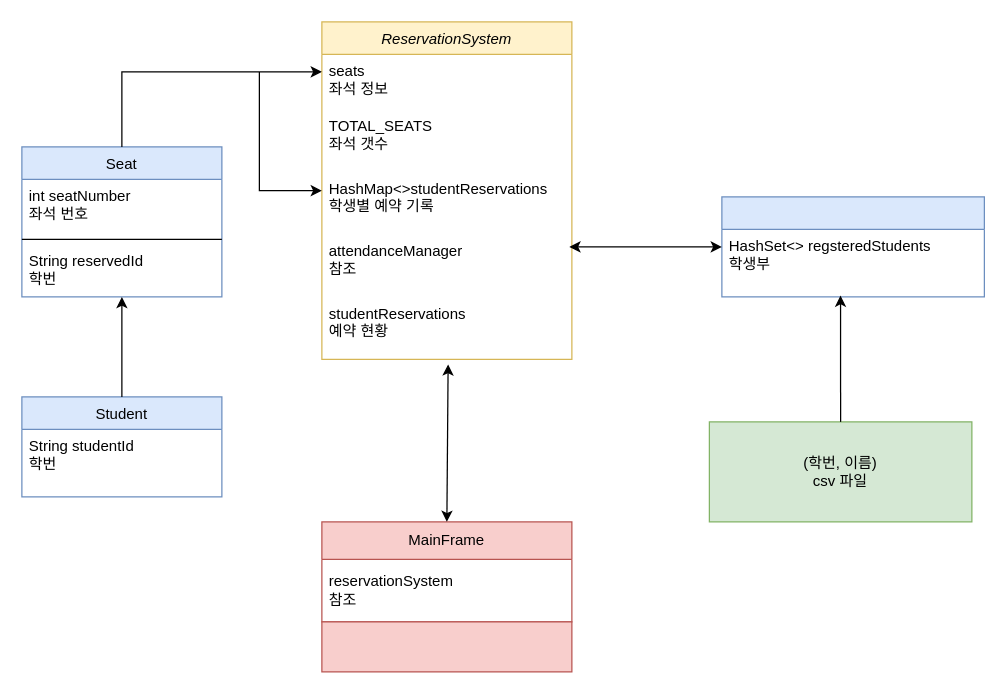
The diagram is 1006 pixels wide and 694 high, and some of its shapes have lost their labels. Each missing label, with the box of its shape:
AttendanceManager: (721, 196, 984, 297)
Main(실행함수): (321, 621, 572, 672)
